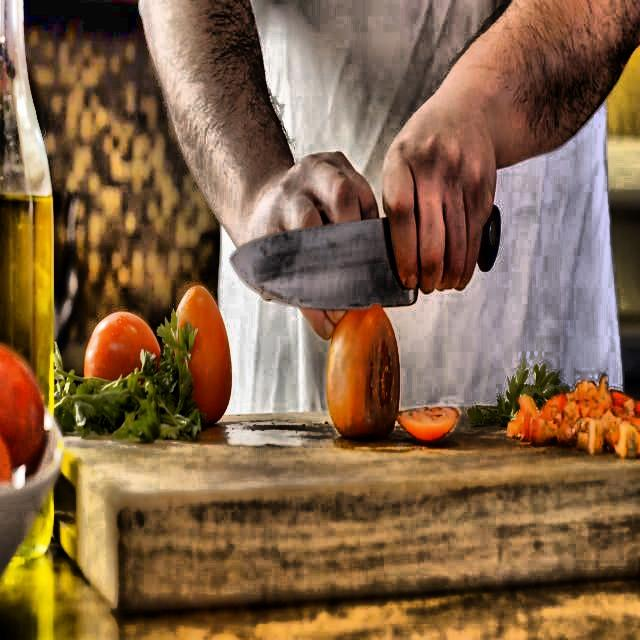knife: (228, 206, 502, 311)
